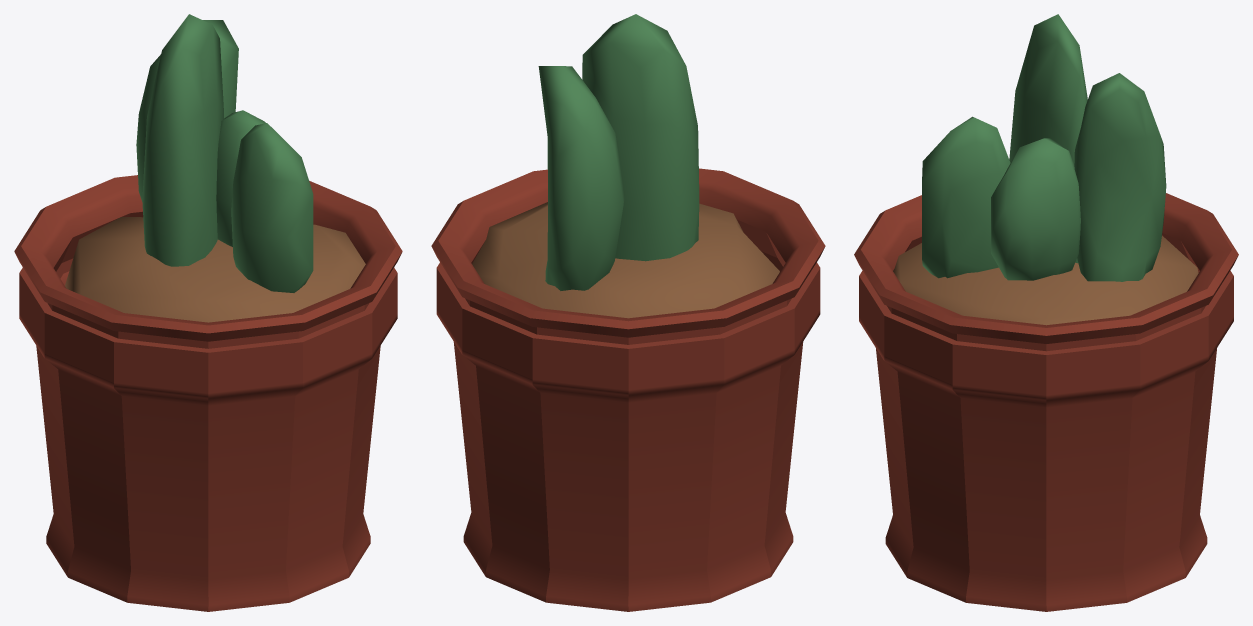
The model's file is CactusPotPlant.fbx.
The picture shows the model from 3 angles, left to right: view 1: azimuth 30°, elevation 25°; view 2: azimuth 150°, elevation 25°; view 3: azimuth 270°, elevation 25°; orthographic projection. The views are drawn at different scales.
Parts seen in each view (by area): view 1: Cactus; view 2: Cactus; view 3: Cactus.
Boxes of the visible parts, x1,y1,x2,y2 form: Cactus: (14, 14, 402, 611); Cactus: (431, 14, 825, 611); Cactus: (854, 14, 1238, 611).
Bounding box in the file's own units: 1.03 × 1.54 × 1.03.
